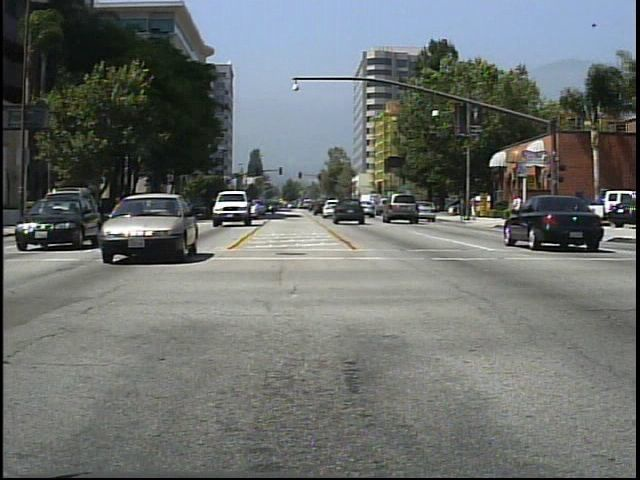person: (508, 192, 528, 231), (470, 191, 482, 224)
